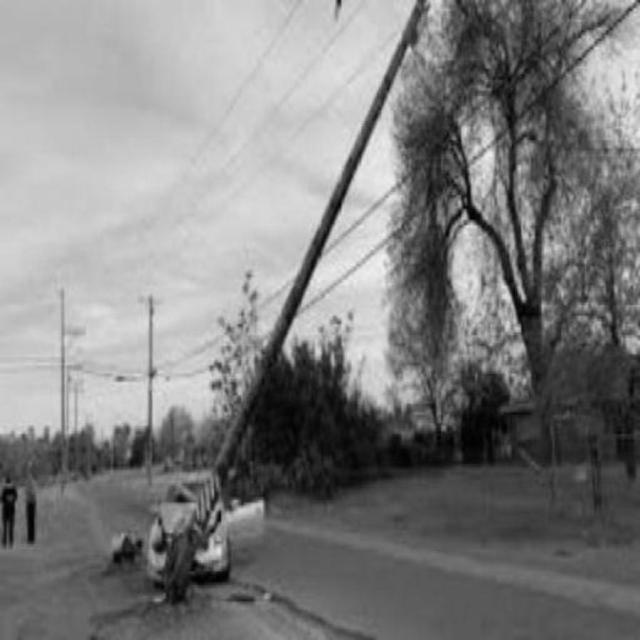accident: (133, 454, 274, 595)
person: (20, 472, 46, 552), (2, 467, 24, 557)
